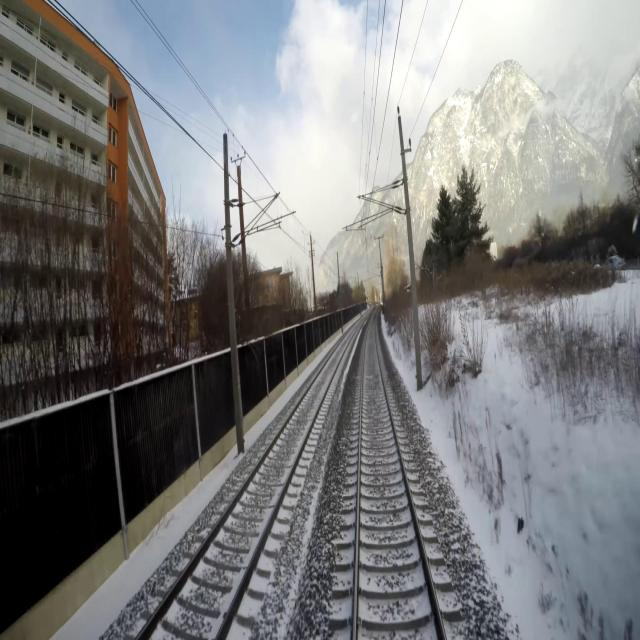rail-track: (140, 323, 358, 639), (358, 305, 443, 639)
